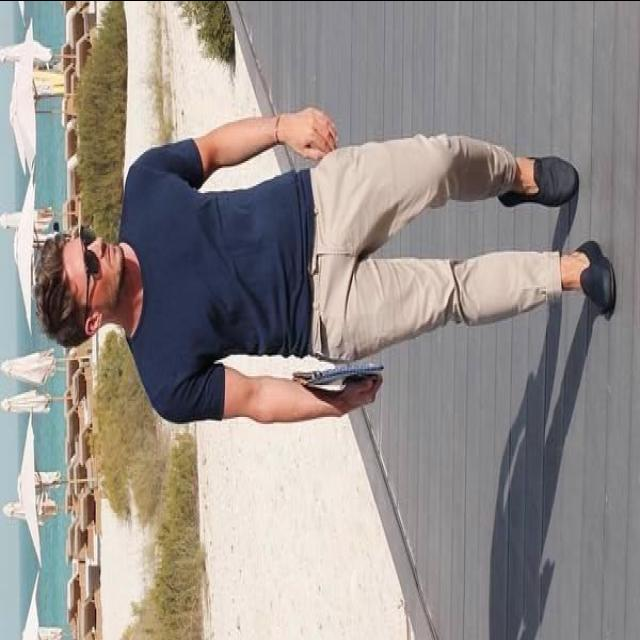shoulder: (124, 144, 192, 426)
